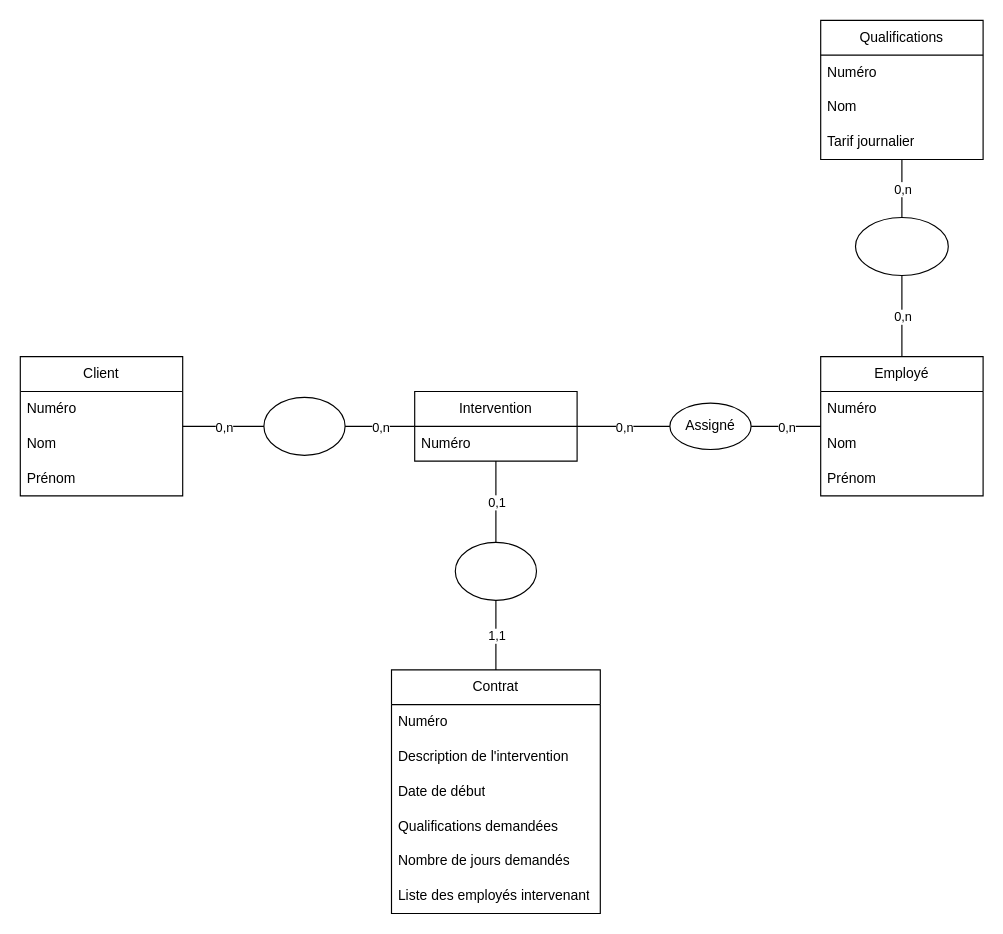
The diagram is 1003 pixels wide and 934 high, and some of its shapes have lost their labels. Each missing label, with the centre of its shape:
Crée: (x=495, y=570)
Demande: (x=304, y=425)
Possède: (x=901, y=246)
